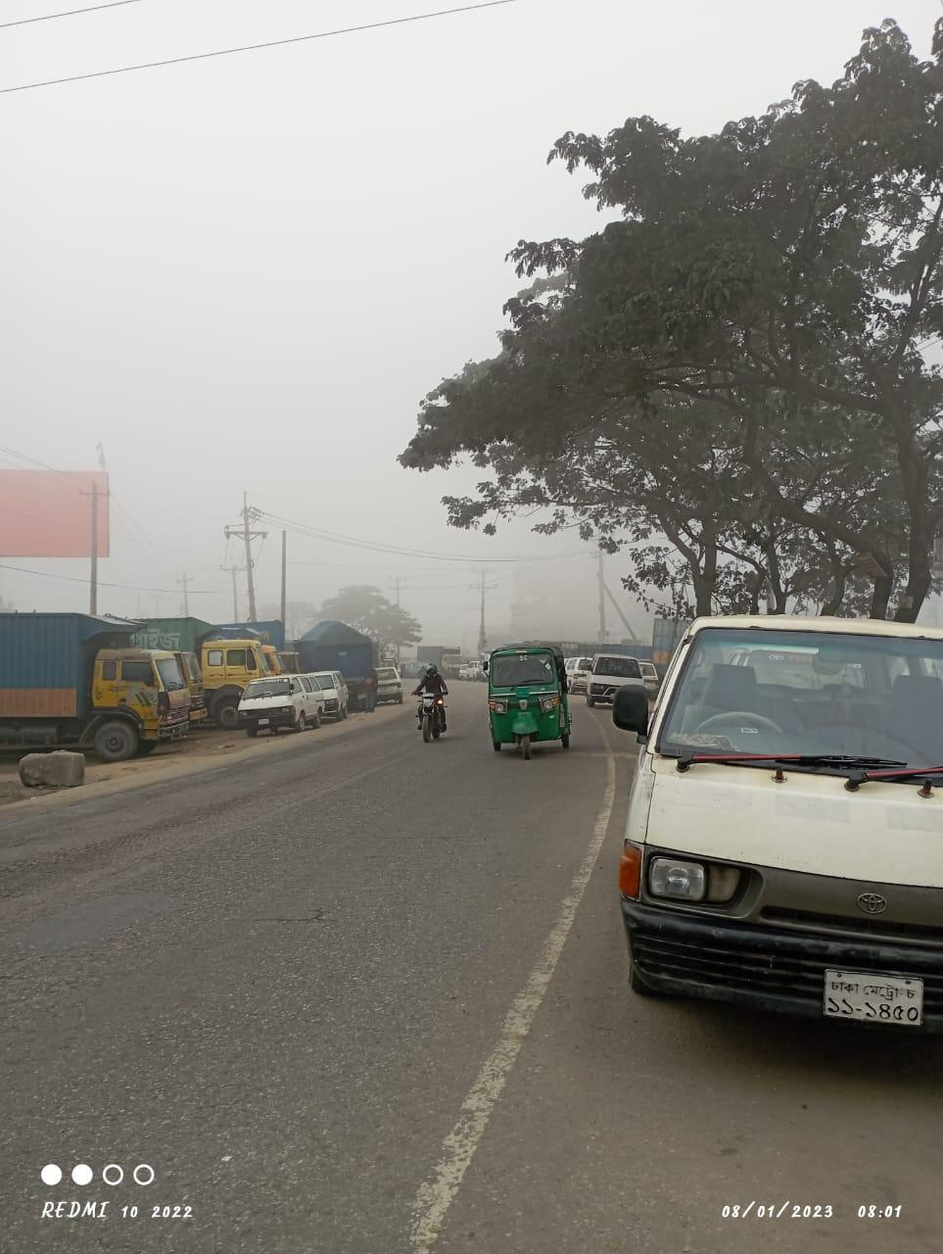Bike: (407, 657, 448, 741)
Car: (593, 607, 943, 1057), (232, 671, 313, 745), (578, 644, 648, 710)
Truck: (5, 596, 193, 773)
